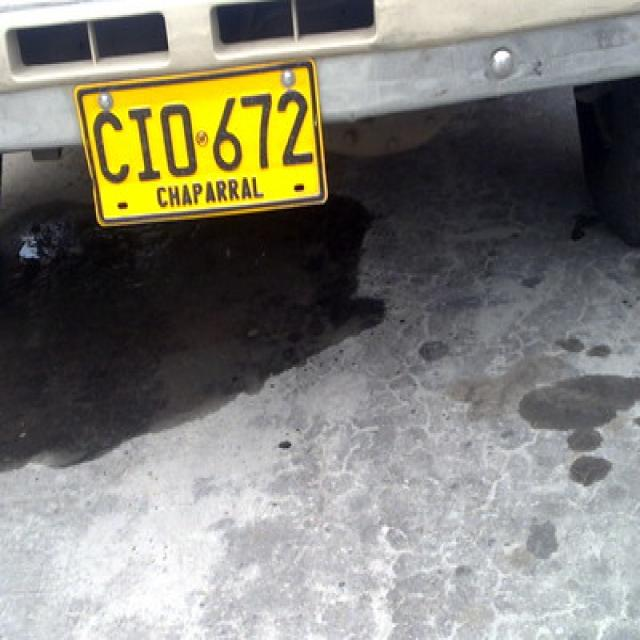placa_carro: (70, 54, 332, 229)
